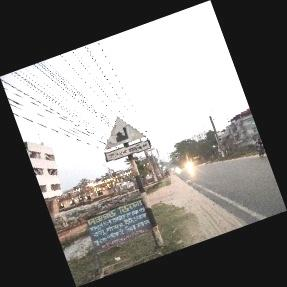Mosque in front: (103, 117, 150, 163)
